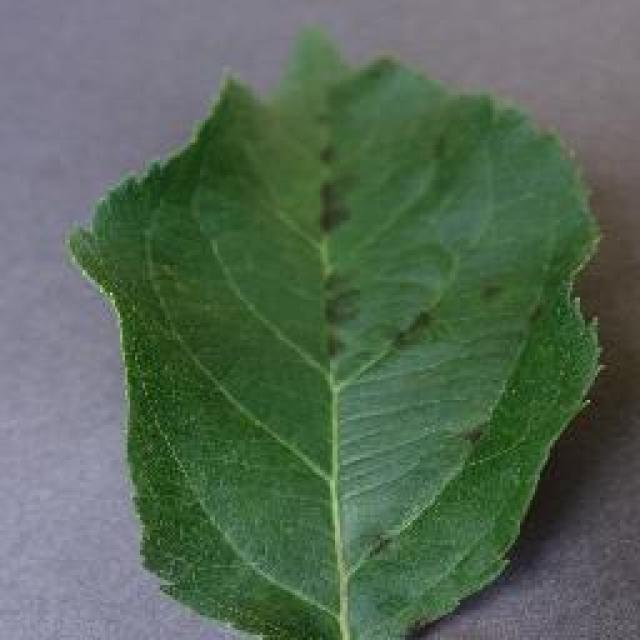Apple___Apple_scab: (59, 17, 611, 638)
